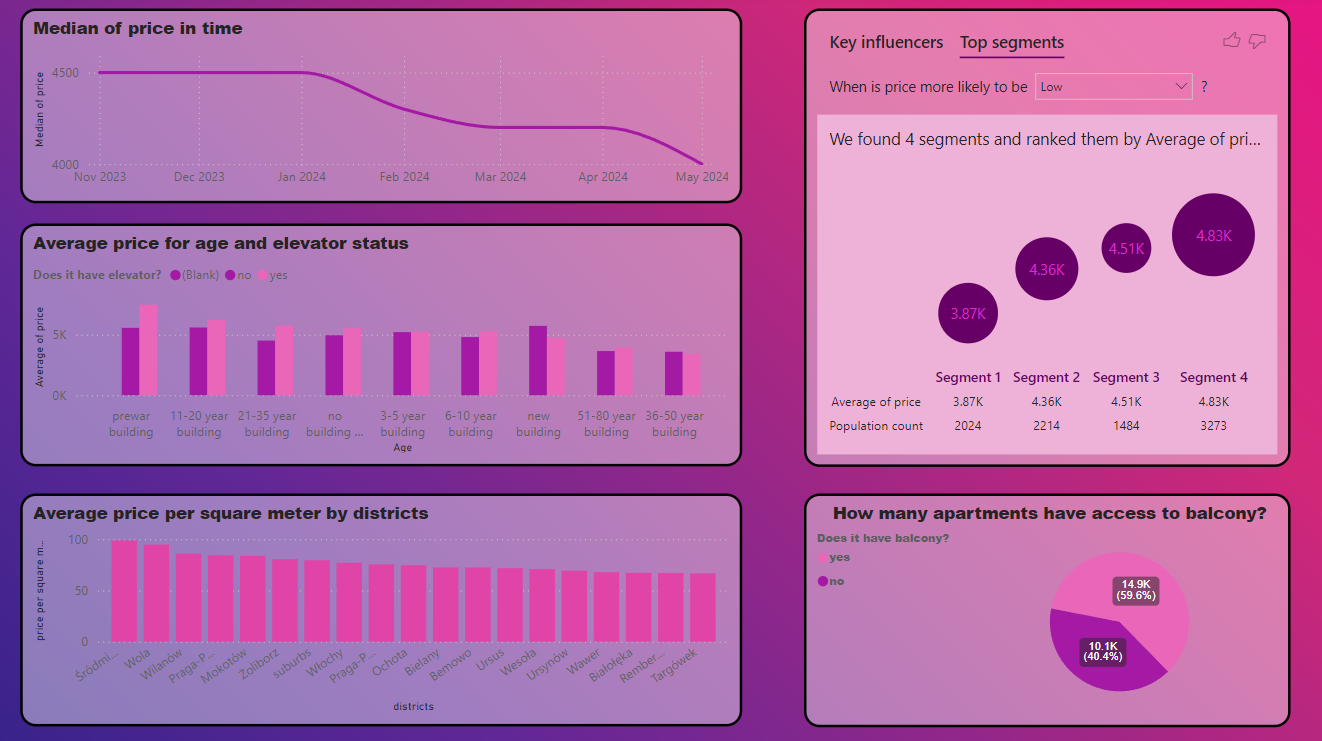

What the dashboard file says about the page in this screenshot:
{"tool":"powerbi","page":{"name":"Dependencies","canvas":[1280,720],"ordinal":1},"visuals":[{"type":"lineChart","title":"Median of price in time","fields":{"Category":["dim_time.month.Variation.Date Hierarchy.Year","dim_time.month.Variation.Date Hierarchy.Month"],"Y":["Median(fact_table.price)"]},"box":[20.8,12.2,697,188.3],"z":0},{"type":"clusteredColumnChart","title":"Average price per square meter by districts","fields":{"Category":["dim_district.district"],"Y":["fact_table.price divided by squareMeters"]},"box":[20.8,480.6,697,225],"z":1000},{"type":"clusteredColumnChart","title":"Average price for age and elevator status","fields":{"Category":["dim_age.Age"],"Y":["Avg(fact_table.price)"],"Series":["dim_elevator.hasElevator"]},"box":[20.8,220.1,697,234.8],"z":2000},{"type":"keyDriversVisual","fields":{"ExplainBy":["fact_table.centreDistance","fact_table.clinicDistance","fact_table.collegeDistance","fact_table.kindergartenDistance","fact_table.pharmacyDistance","fact_table.restaurantDistance","fact_table.schoolDistance","fact_table.poiCount"],"Target":["fact_table.price"]},"box":[776.9,12.1,469.3,442.8],"z":3000},{"type":"pieChart","title":"How many apartments have access to balcony?","fields":{"Y":["CountNonNull(fact_table.id_balcony)"],"Category":["dim_balcony.hasBalcony"]},"box":[776.9,480.2,469.3,225.6],"z":4000}]}

Visuals, with their boxes in screenshot pixels (x1, y1, x2, y2), scaled from the page's 1280x720 canvas onto the 1322x741 screenshot:
"Median of price in time" lineChart: (21, 13, 741, 206)
"Average price per square meter by districts" clusteredColumnChart: (21, 495, 741, 726)
"Average price for age and elevator status" clusteredColumnChart: (21, 227, 741, 468)
keyDriversVisual - fact_table.centreDistance x fact_table.clinicDistance: (802, 12, 1287, 468)
"How many apartments have access to balcony?" pieChart: (802, 494, 1287, 726)
